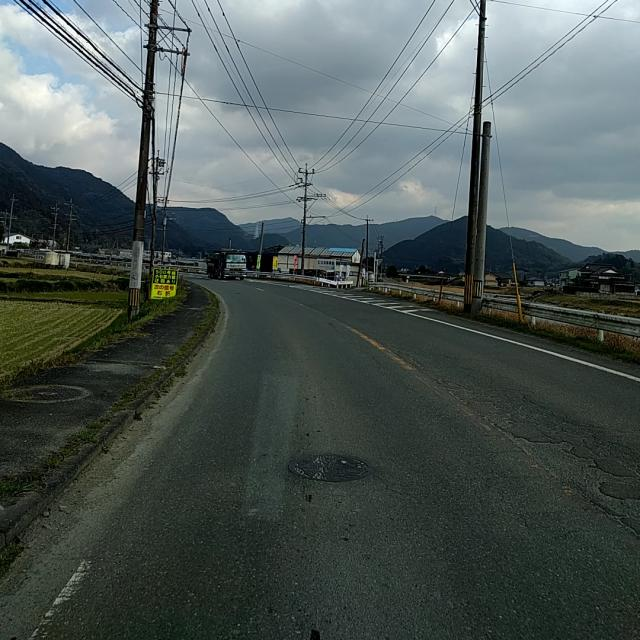pothole: (502, 406, 635, 504)
